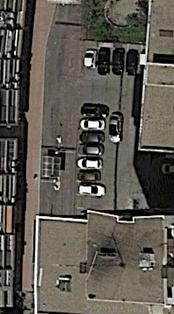parkingspot: (75, 102, 109, 197), (80, 38, 145, 78)
